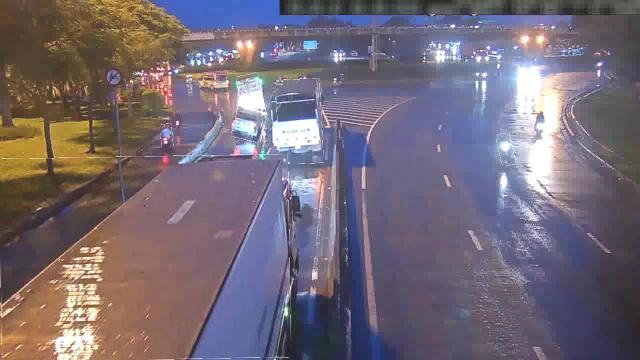Bike: (498, 134, 514, 166), (161, 124, 173, 148), (534, 110, 546, 134)
Car: (232, 107, 266, 141)
Truck: (1, 155, 291, 359), (277, 79, 323, 164), (238, 74, 264, 116)
